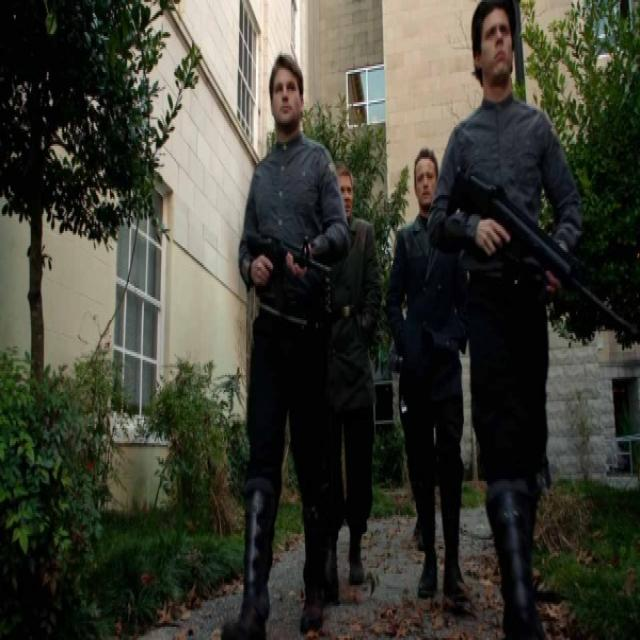rifle: (450, 168, 639, 351), (247, 218, 336, 320)
